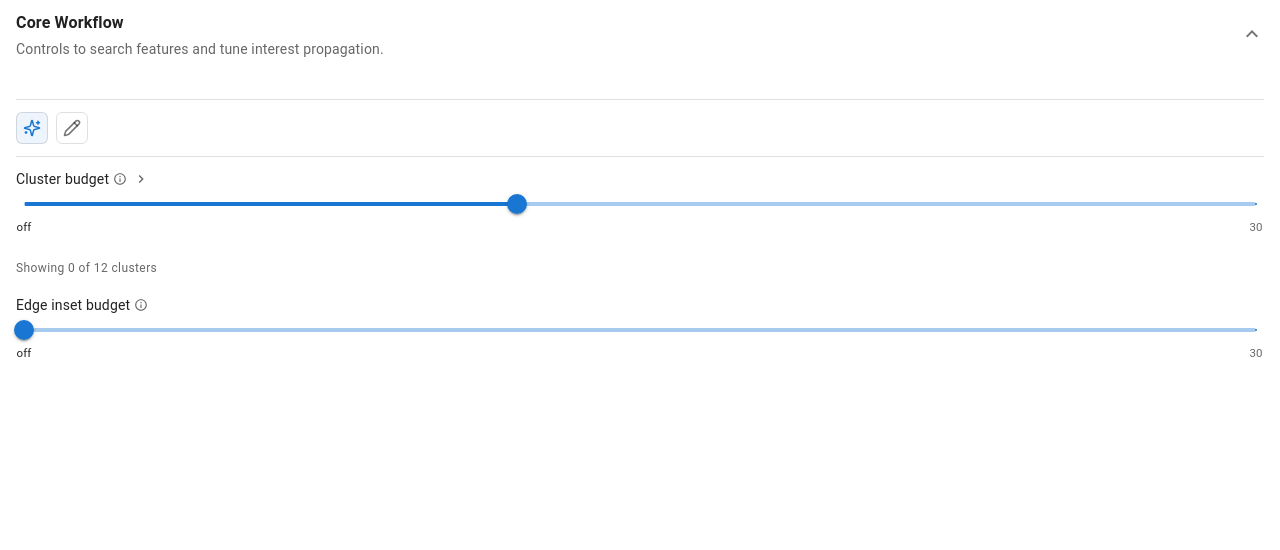
WorkflowTabPanel (issue #261 part 4) › reveals the cluster-budget sub-sliders through the inline unfold arrow
Click the button named "Cluster budget details" at (141, 179), box [131,169,151,189]
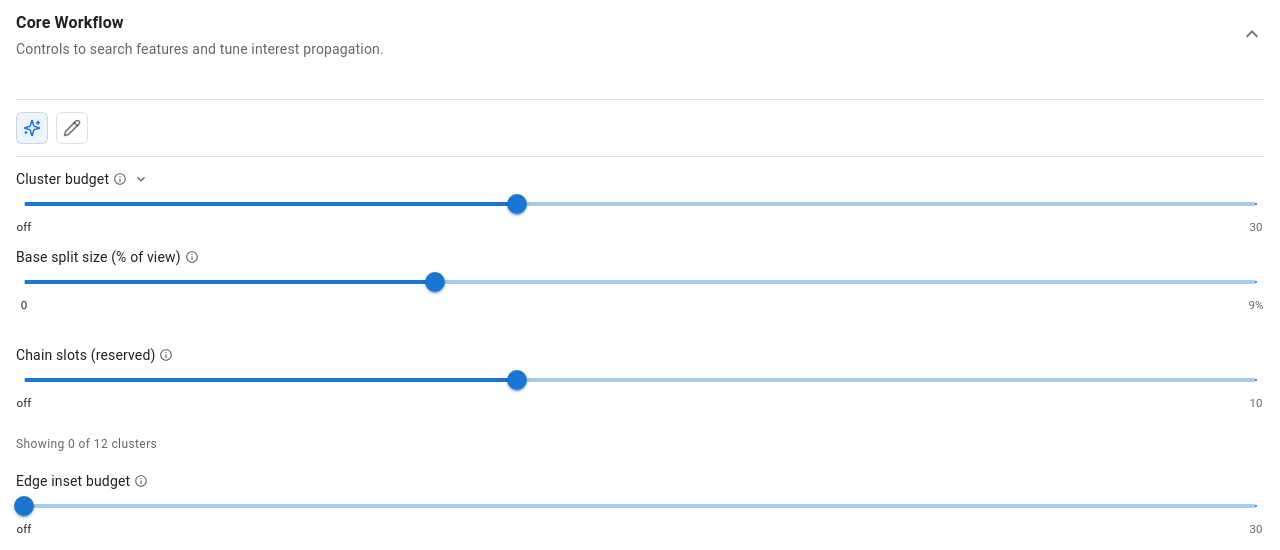
Now the button named "Cluster budget details" is expanded, box [131,169,151,189]
